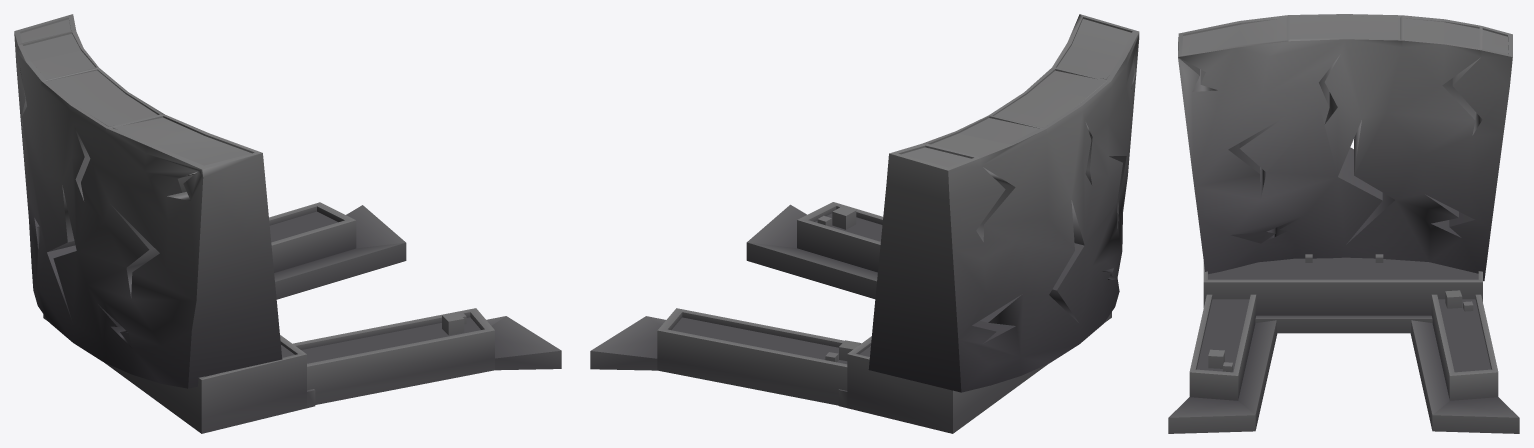
Rendered from SM_Dam_Broken_stage_1.fbx.
3 renders of one model, left to right at view 1: azimuth 30°, elevation 25°; view 2: azimuth 150°, elevation 25°; view 3: azimuth 270°, elevation 25°, orthographic. The views are drawn at different scales.
Visible parts, largest first — view 1: DamBroken.023, DamBroken.001; view 2: DamBroken.023, DamBroken.001; view 3: DamBroken.023, DamBroken.001.
Part boxes in pixels (x1,y1,x2,y2): DamBroken.023: (14,14,282,388); DamBroken.001: (43,202,561,433); DamBroken.023: (868,14,1139,392); DamBroken.001: (590,202,1111,433); DamBroken.023: (1178,14,1512,281); DamBroken.001: (1168,254,1519,433).
Size of the model in its own units: 2740 by 2413 by 1910.
